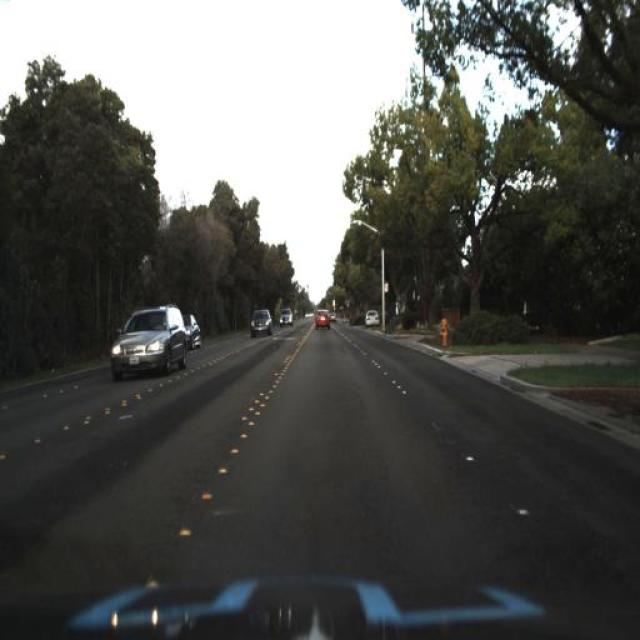car: (108, 303, 184, 385), (183, 310, 205, 356), (182, 309, 202, 356), (246, 305, 274, 337), (309, 302, 331, 334), (362, 302, 382, 330), (276, 305, 295, 329)
